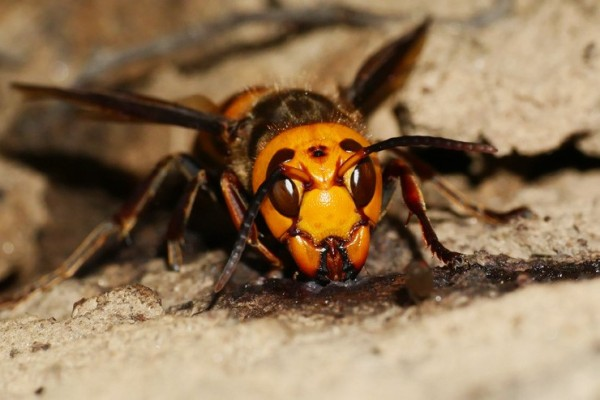asian_giant_hornet: (9, 80, 473, 301)
